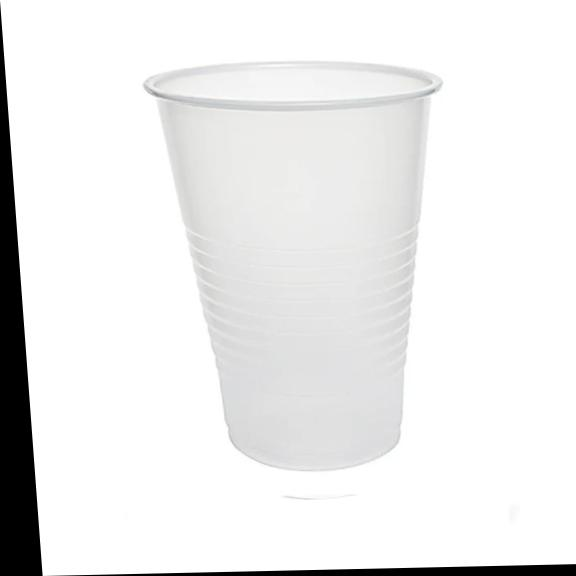Plastik: (145, 62, 441, 469)
